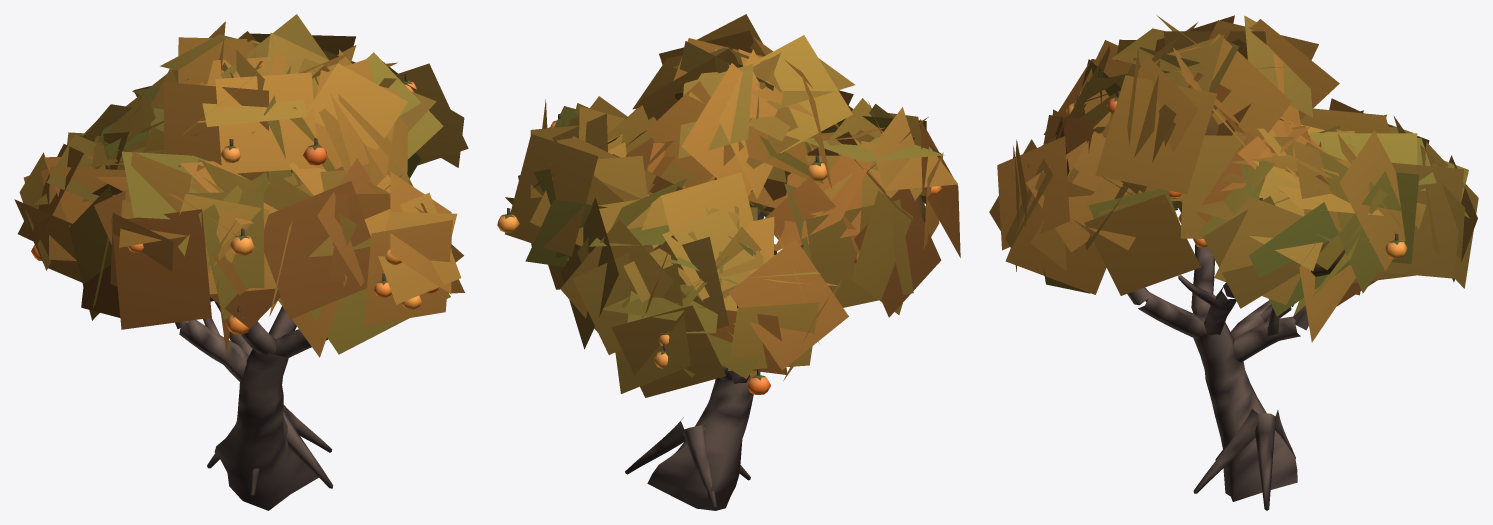
Rendered from tree-persimmon-v1.glb.
3 renders of one model, left to right at view 1: azimuth 30°, elevation 25°; view 2: azimuth 150°, elevation 25°; view 3: azimuth 270°, elevation 25°, orthographic. The views are drawn at different scales.
Visible parts, largest first — view 1: cards_round, bark, d_body; view 2: cards_round, bark, d_body; view 3: cards_round, bark, d_body.
Boxes of the visible parts, x1,y1,x2,y2 form: cards_round: [14, 14, 468, 357]; bark: [175, 300, 333, 510]; d_body: [31, 74, 438, 334]; cards_round: [505, 14, 960, 397]; bark: [625, 209, 764, 510]; d_body: [497, 113, 941, 394]; cards_round: [989, 15, 1478, 342]; bark: [1127, 244, 1308, 510]; d_body: [1066, 90, 1407, 258].
Size of the model in its own units: 4.24 by 4.94 by 4.73.
